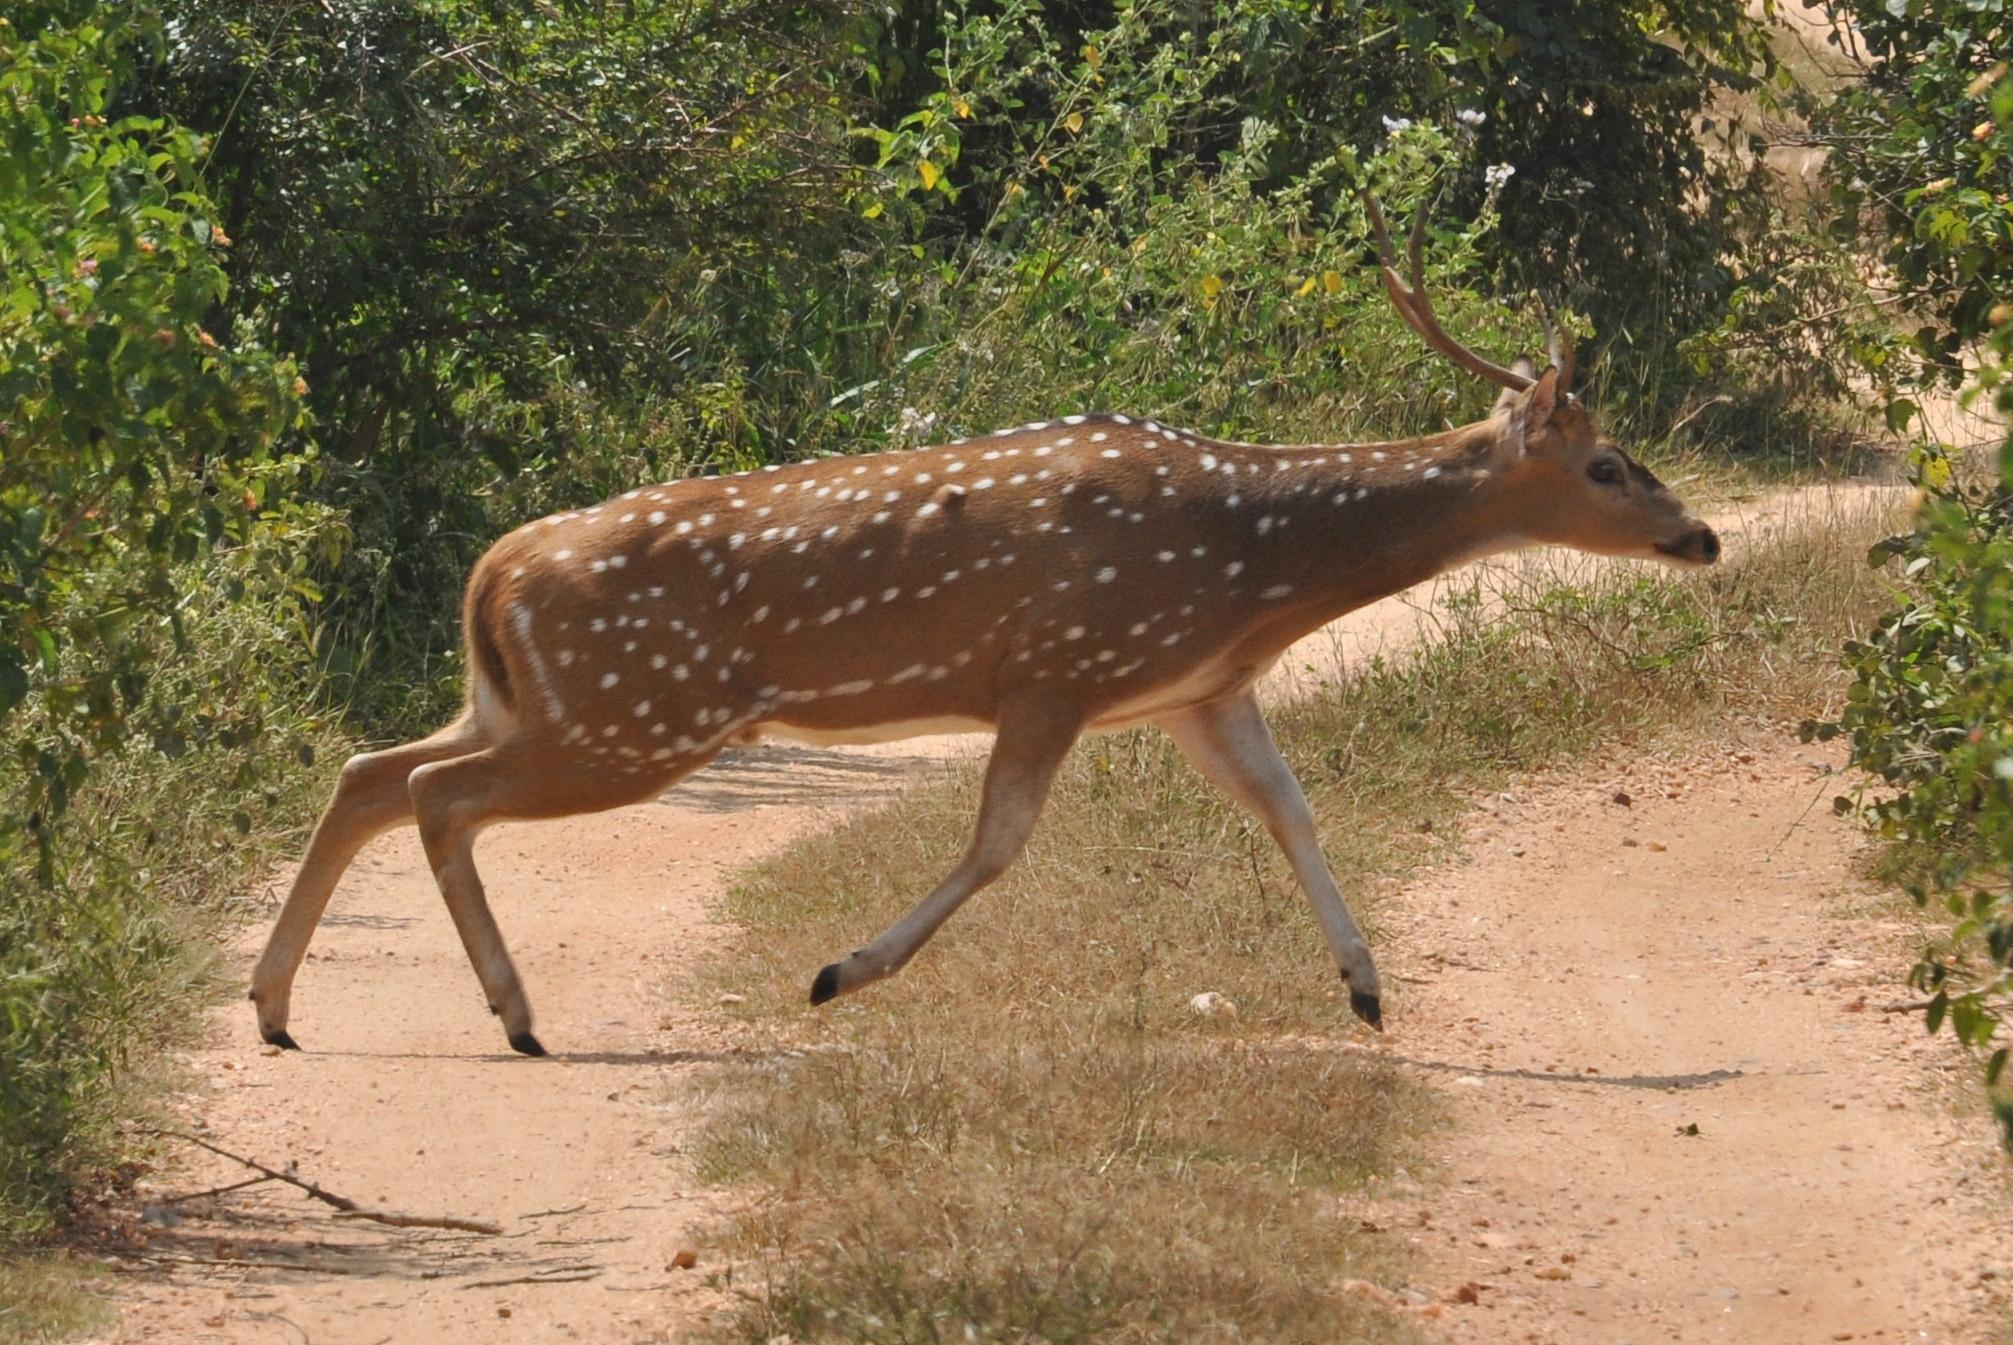Deer: (251, 189, 1719, 1054)
